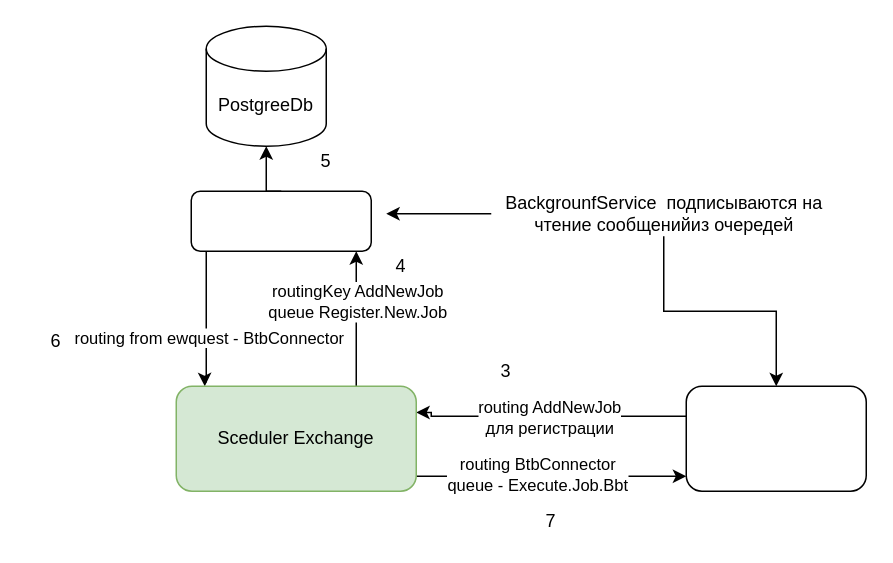
The diagram is 893 pixels wide and 563 high, and some of its shapes have lost their labels. The shapes that lost their labels are listed below. From the top down, each one's centre as x and y in pixels, then its label:
(280,220): 1) Scheduler
(775,438): 2) BtbConnector запускается после шедулера
